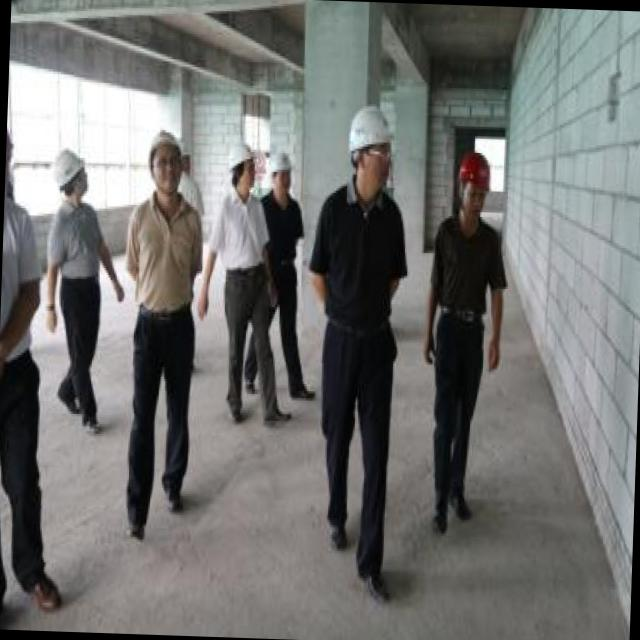helmet: (342, 96, 398, 200), (448, 144, 493, 233), (46, 137, 98, 210), (142, 124, 184, 199), (262, 135, 298, 210), (225, 132, 262, 204)
